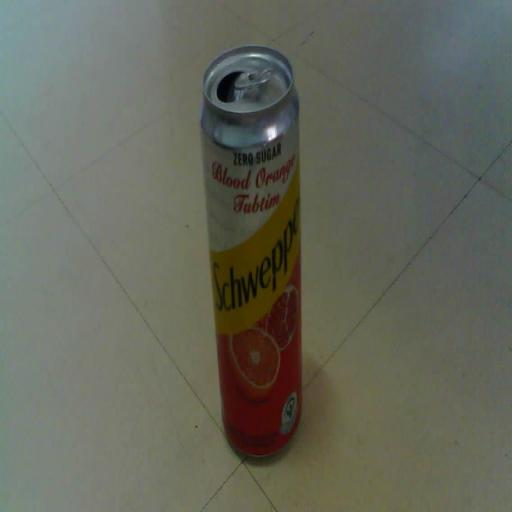canned: (192, 38, 316, 469)
